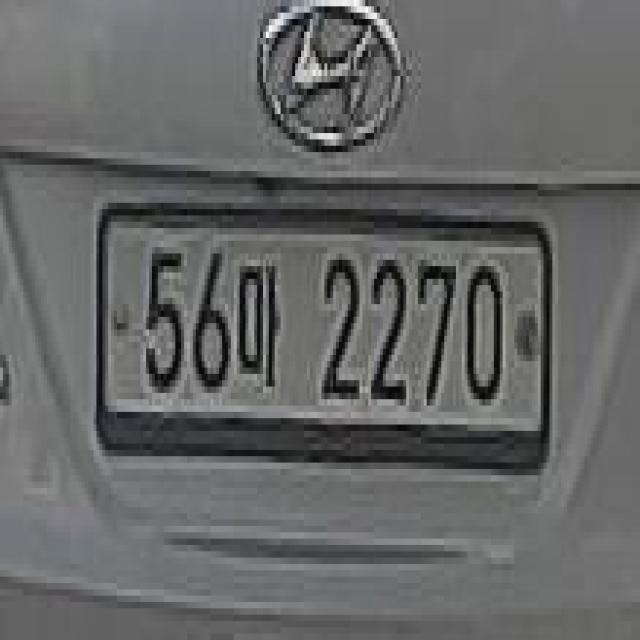illegal_plate: (93, 191, 553, 489)
